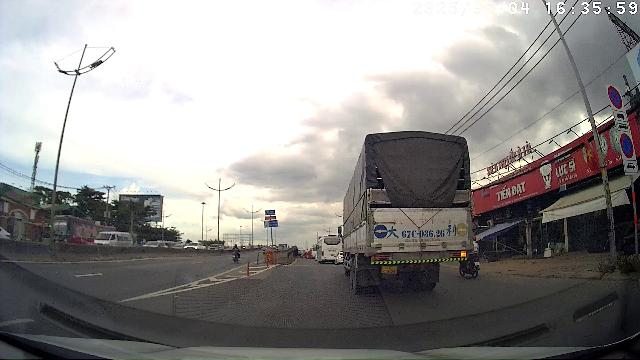130-cam-dung-va-do-xe: (608, 86, 623, 109)
131a-cam-do-xe: (620, 133, 634, 159)
